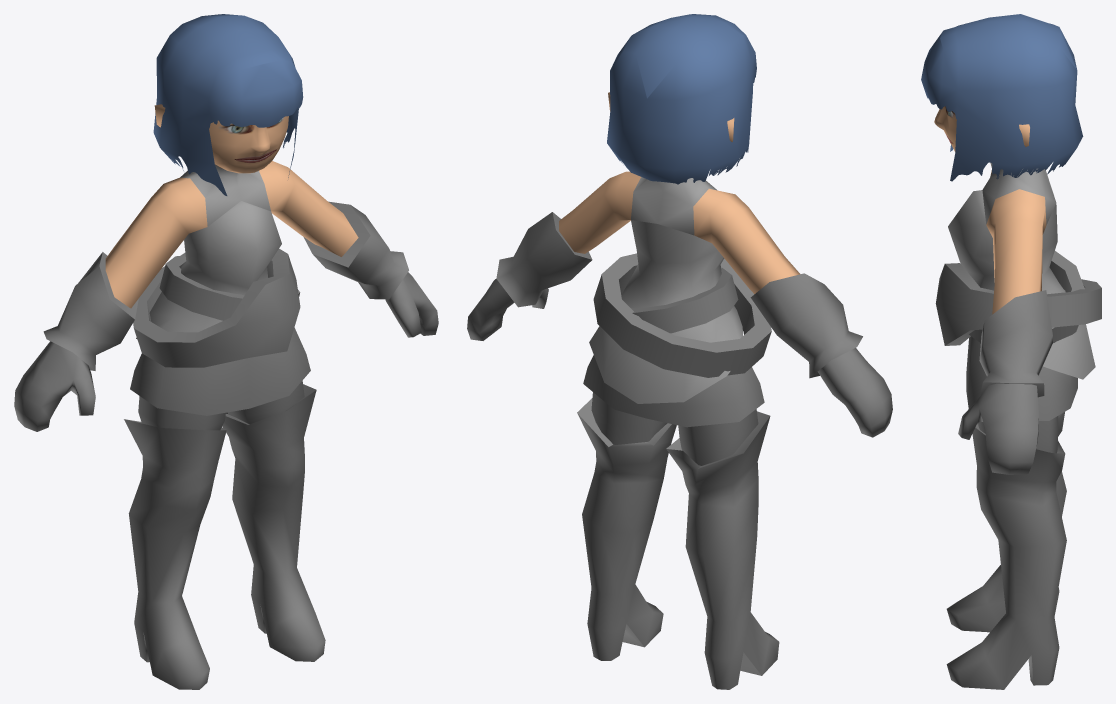
File: character.fbx
The picture shows the model from 3 angles, left to right: view 1: azimuth 30°, elevation 25°; view 2: azimuth 150°, elevation 25°; view 3: azimuth 270°, elevation 25°; orthographic projection.
Visible parts, largest first — view 1: Character_Hair003, Character_Boots003, Character_Belts003, Character_ArmBraces003, Character_Skirt003, Character_Gloves003, Character_Legs003; view 2: Character_Hair003, Character_Boots003, Character_Belts003, Character_ArmBraces003, Character_Gloves003, Character_Skirt003, Character_Legs003; view 3: Character_Hair003, Character_Boots003, Character_Belts003, Character_ArmBraces003, Character_Gloves003, Character_Skirt003, Character_Legs003.
Boxes of the visible parts, <box> form: Character_Hair003: <box>105,14,358,338</box>; Character_Boots003: <box>124,384,325,689</box>; Character_Belts003: <box>133,248,300,367</box>; Character_ArmBraces003: <box>43,201,408,370</box>; Character_Skirt003: <box>130,327,310,415</box>; Character_Gloves003: <box>14,272,438,431</box>; Character_Legs003: <box>138,381,304,430</box>; Character_Hair003: <box>559,14,800,403</box>; Character_Boots003: <box>577,398,779,689</box>; Character_Belts003: <box>593,253,771,377</box>; Character_ArmBraces003: <box>496,212,862,378</box>; Character_Gloves003: <box>467,279,892,437</box>; Character_Skirt003: <box>583,355,764,427</box>; Character_Legs003: <box>591,392,758,465</box>; Character_Hair003: <box>921,14,1095,379</box>; Character_Boots003: <box>946,412,1066,689</box>; Character_Belts003: <box>935,251,1101,345</box>; Character_ArmBraces003: <box>979,290,1052,397</box>; Character_Gloves003: <box>958,383,1038,474</box>; Character_Skirt003: <box>966,336,1077,420</box>; Character_Legs003: <box>978,416,1058,453</box>.
Bounding box in the file's own units: 265 × 393 × 102.
Materials: 2 (1 with a texture image).
